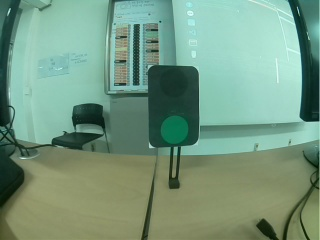green_light: (147, 66, 197, 143)
